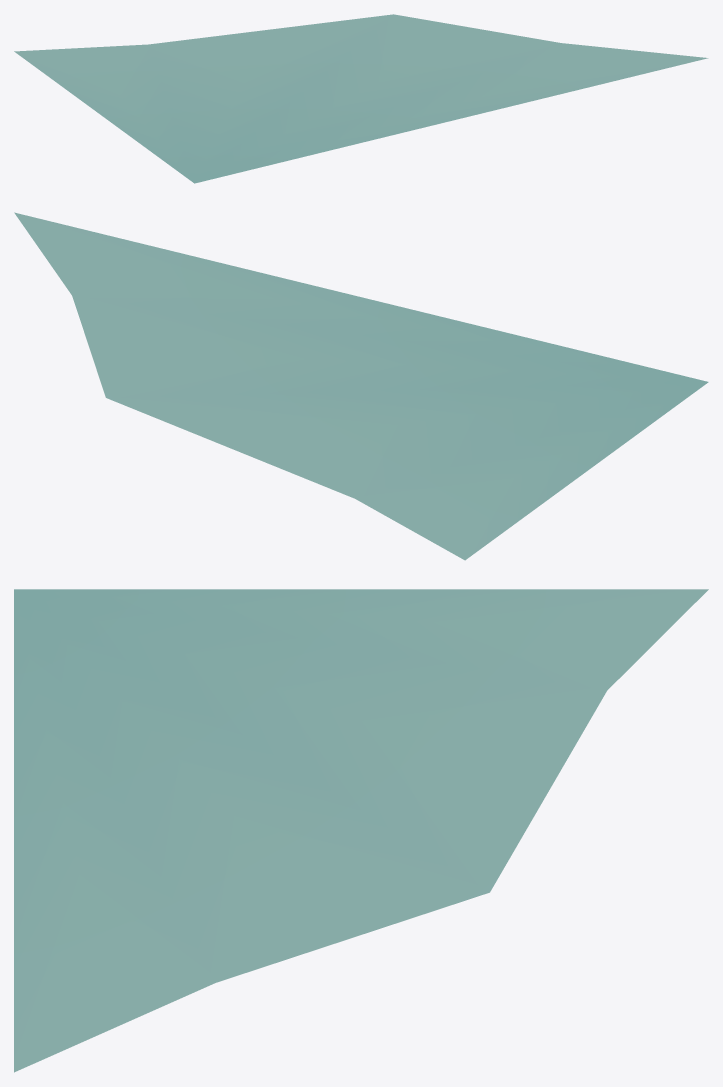
The model's file is water-18-11.glb.
3 views of the same model, one above another, from view 1: azimuth 30°, elevation 25°; view 2: azimuth 150°, elevation 25°; view 3: azimuth 270°, elevation 25° (orthographic). The views are drawn at different scales.
Size of the model in its own units: 6.63 by 0 by 4.03.
